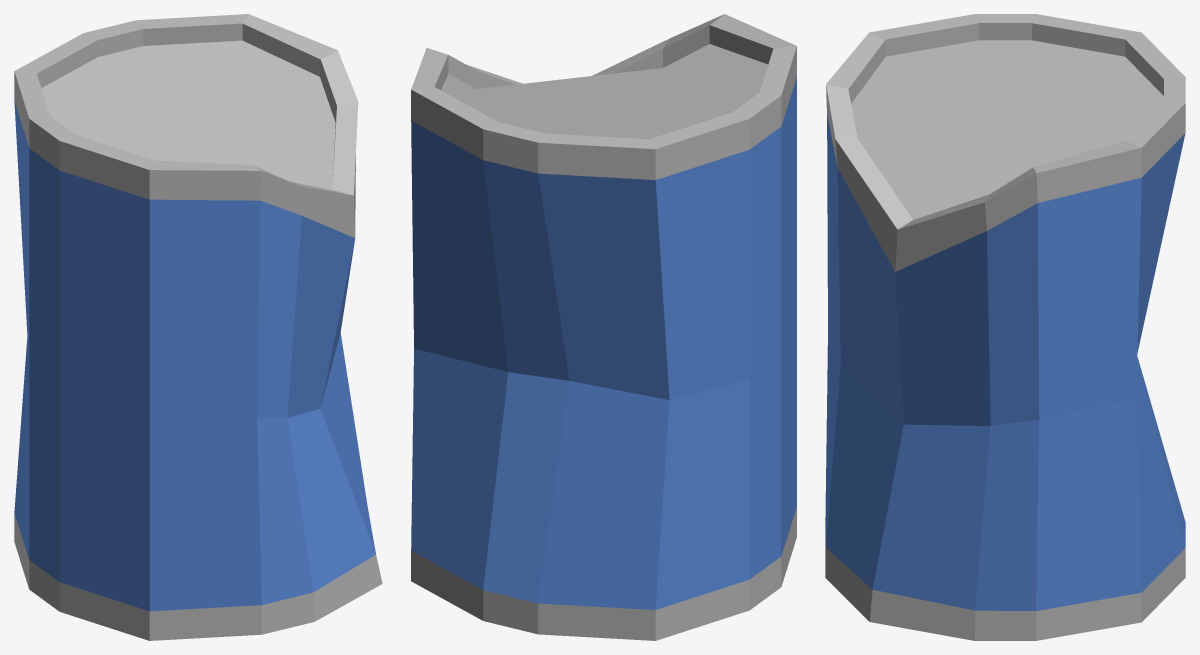
The model's file is Can.glb.
The picture shows the model from 3 angles, left to right: view 1: azimuth 30°, elevation 25°; view 2: azimuth 150°, elevation 25°; view 3: azimuth 270°, elevation 25°; orthographic projection. The views are drawn at different scales.
Visible parts, largest first — view 1: Can; view 2: Can; view 3: Can.
Part boxes in pixels (x1,y1,x2,y2): Can: (14,14,382,640); Can: (411,14,796,640); Can: (825,14,1185,640).
Bounding box in the file's own units: 0.6063 × 0.882 × 0.6063.
